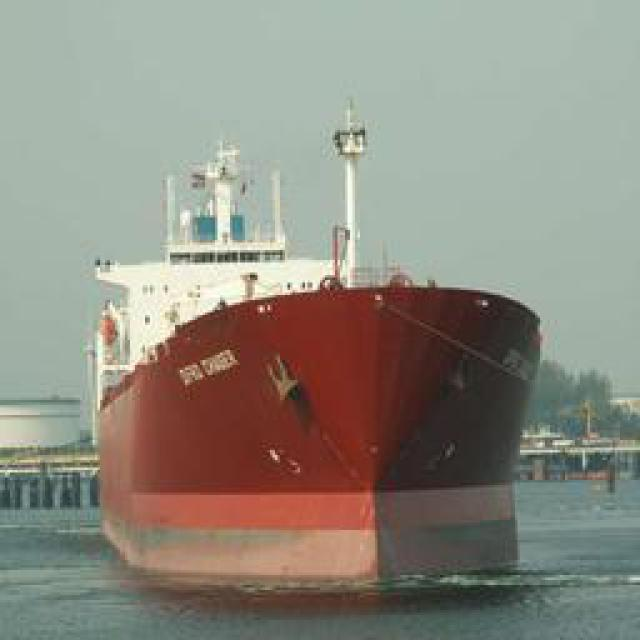Ship: (90, 219, 548, 592)
